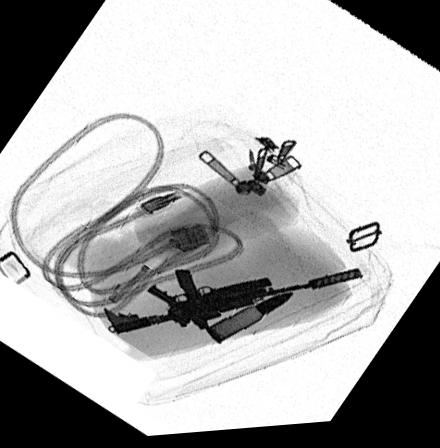Bullet: (203, 297, 293, 348)
Gun: (100, 272, 361, 338)
